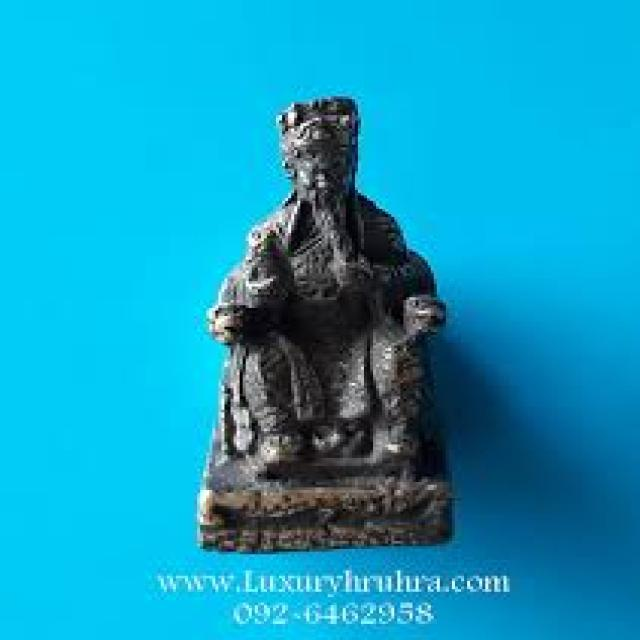Guan Yu: (212, 89, 428, 381)
